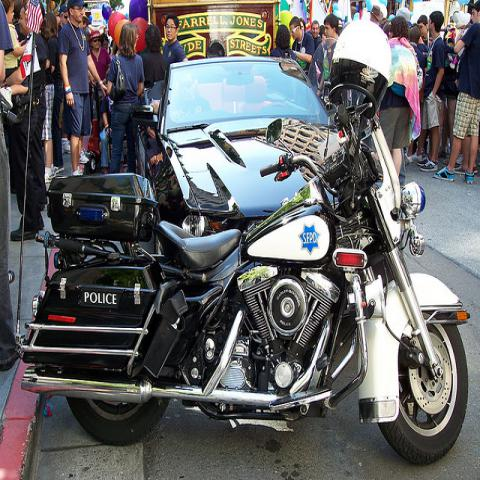car: (129, 56, 332, 239)
motorcycle: (4, 2, 480, 466)
